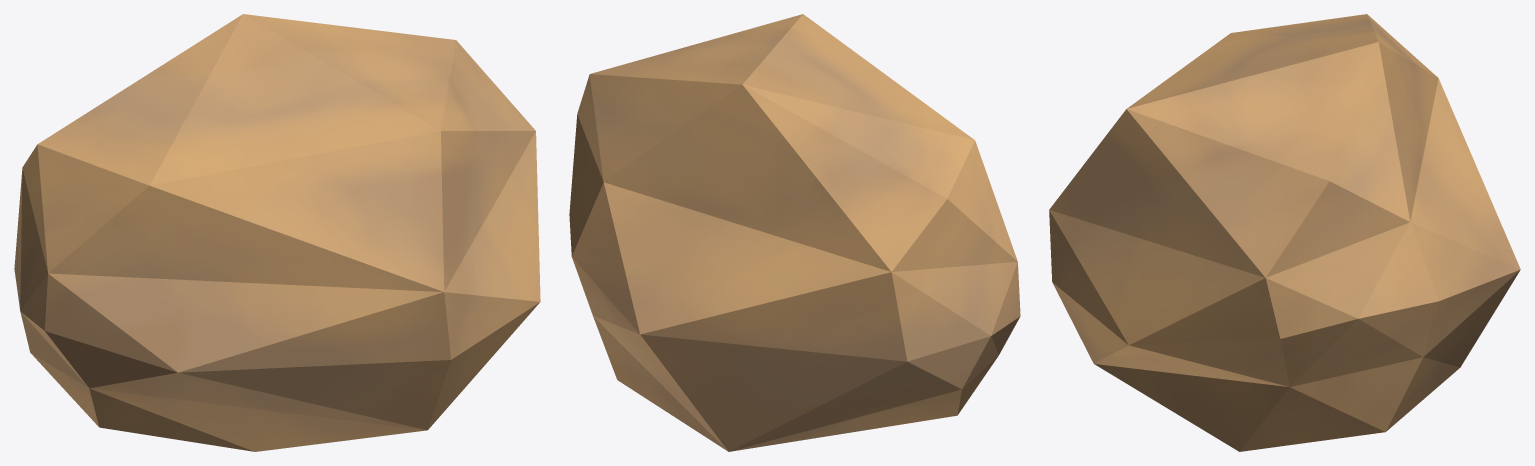
The model's file is Rock_04.fbx.
3 renders of one model, left to right at view 1: azimuth 30°, elevation 25°; view 2: azimuth 150°, elevation 25°; view 3: azimuth 270°, elevation 25°, orthographic. The views are drawn at different scales.
Visible parts, largest first — view 1: Rock_04; view 2: Rock_04; view 3: Rock_04.
Boxes of the visible parts, bbox=[...] form: Rock_04: bbox=[14, 14, 540, 451]; Rock_04: bbox=[569, 14, 1020, 451]; Rock_04: bbox=[1049, 14, 1520, 451].
Bounding box in the file's own units: 373 × 286 × 329.
